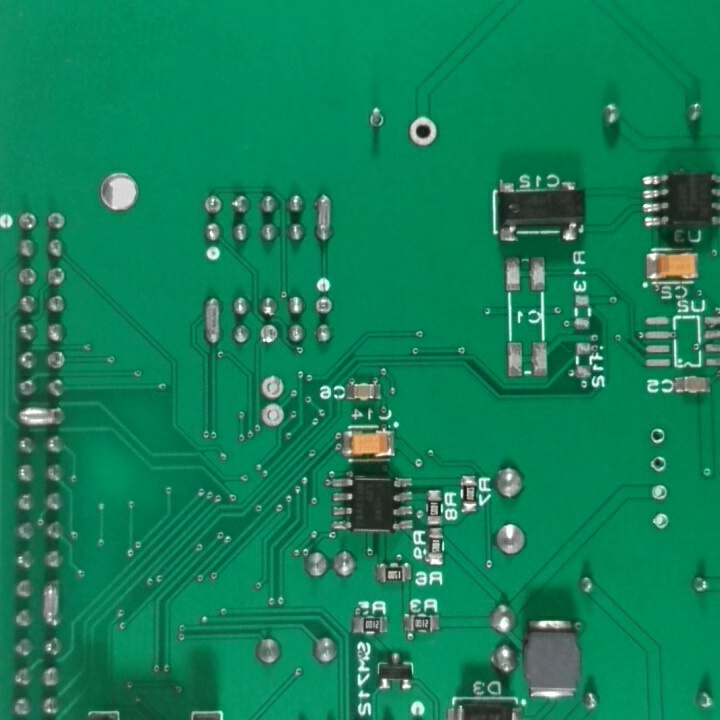F: (407, 116, 441, 150), (257, 374, 287, 403), (257, 404, 290, 428), (364, 106, 390, 132), (258, 320, 281, 349), (648, 510, 673, 534), (44, 347, 66, 374), (648, 480, 671, 505), (202, 192, 223, 219), (17, 209, 39, 233), (16, 265, 38, 287), (647, 424, 669, 446), (647, 453, 669, 475), (313, 295, 333, 316)
P: (201, 293, 227, 348), (13, 406, 69, 429), (39, 578, 64, 629), (311, 191, 334, 245)
